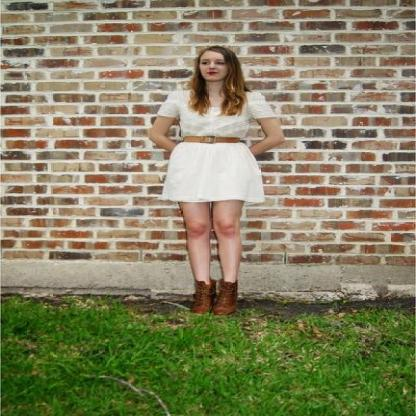dress: (164, 75, 289, 202)
shoe: (188, 274, 244, 314)
